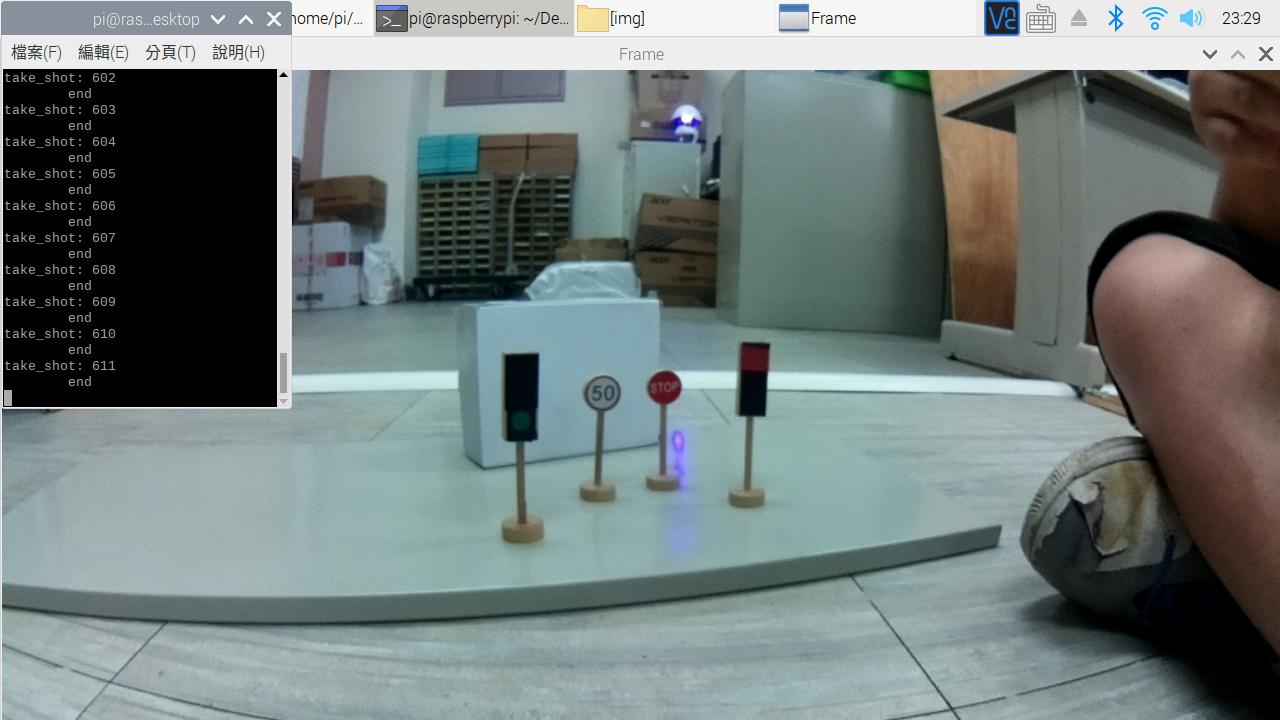Green: (491, 346, 553, 453)
Red: (727, 330, 777, 425)
Speed50: (572, 370, 627, 421)
Stop: (640, 366, 692, 418)
